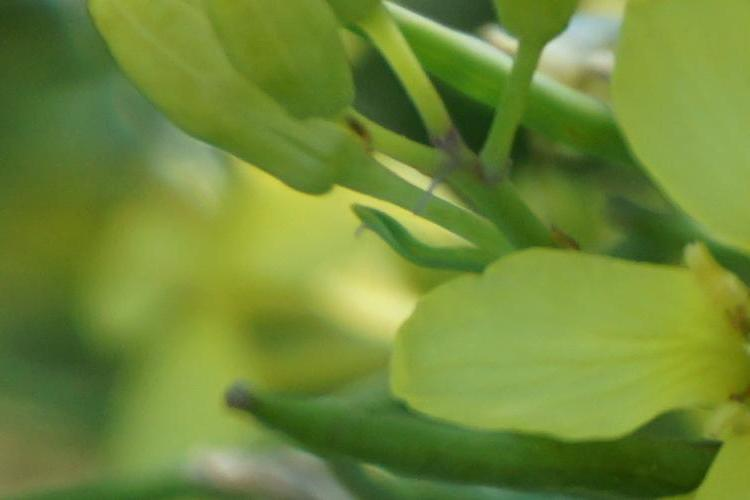bud: (79, 6, 361, 180), (204, 3, 350, 132)
pod: (192, 366, 565, 473)
